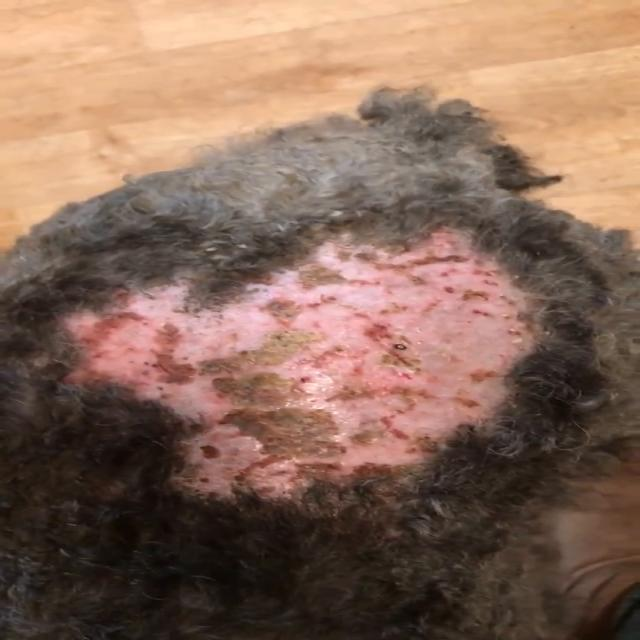allergic dermatitis: (51, 224, 532, 518)
